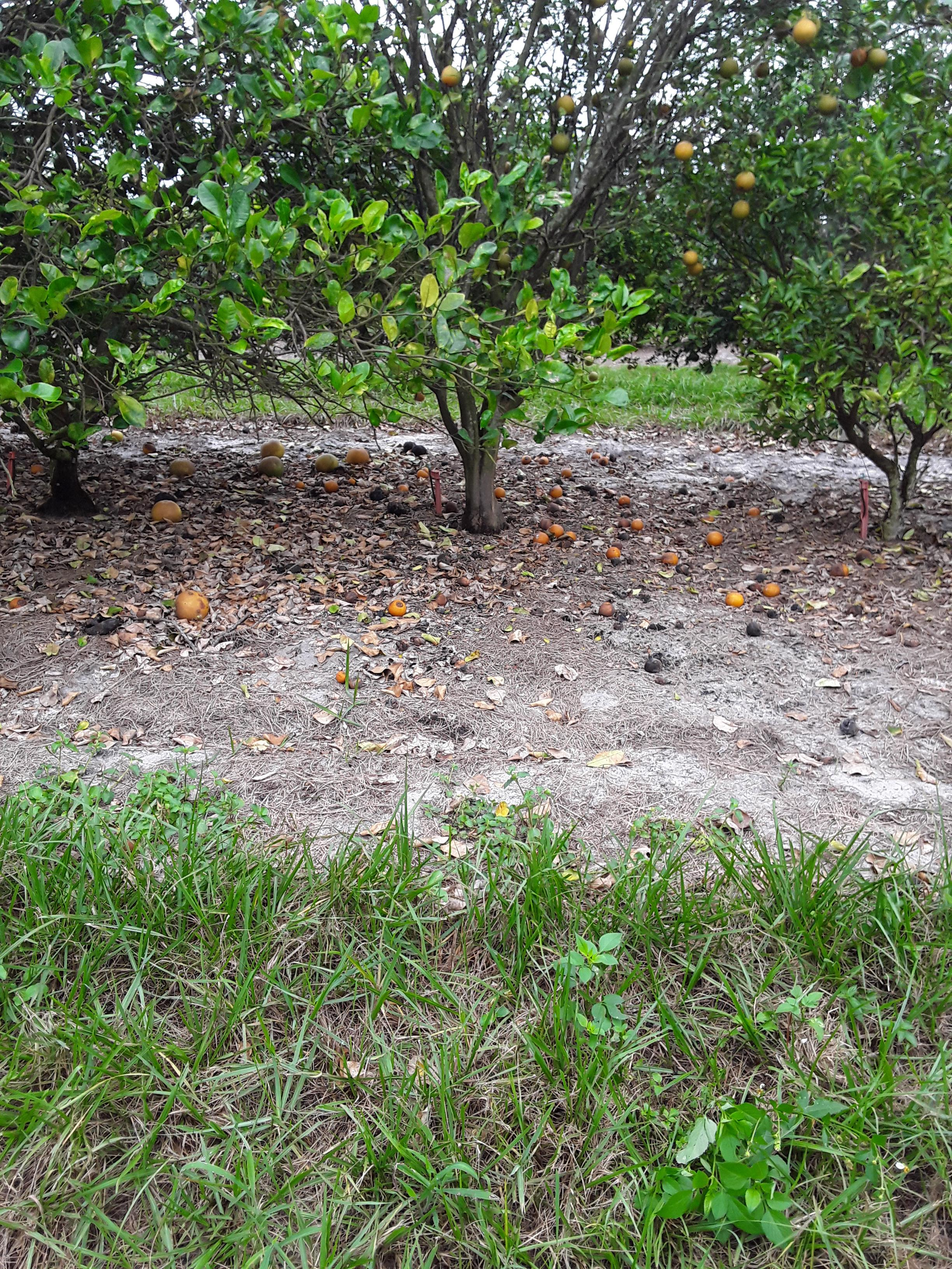fruit_on_ground: (250, 0, 295, 40), (167, 80, 207, 117), (791, 14, 822, 46), (437, 61, 465, 88), (814, 89, 841, 116), (552, 92, 579, 117), (866, 44, 891, 70), (717, 54, 742, 79), (550, 129, 574, 155), (672, 137, 696, 163), (847, 45, 870, 70), (733, 170, 758, 192), (729, 198, 752, 221), (770, 17, 794, 39), (493, 247, 515, 270), (750, 58, 773, 80), (582, 24, 606, 45), (585, 87, 607, 108), (651, 99, 674, 119), (616, 55, 637, 75), (681, 247, 701, 266), (686, 260, 706, 278), (586, 0, 611, 13), (411, 388, 427, 404), (586, 369, 600, 383), (583, 354, 595, 367)
fruit_on_tree: (174, 589, 210, 623), (150, 498, 184, 525), (257, 454, 286, 478), (312, 450, 338, 474), (168, 455, 196, 477), (259, 437, 286, 458), (344, 444, 371, 465), (387, 596, 409, 617), (724, 589, 746, 608), (643, 654, 663, 674), (761, 580, 781, 598), (829, 561, 850, 578), (705, 529, 724, 546), (106, 427, 126, 443), (744, 621, 762, 638), (598, 600, 616, 617), (442, 498, 459, 515), (854, 547, 872, 563), (411, 442, 429, 457), (662, 551, 680, 566), (492, 485, 508, 500), (605, 544, 621, 559), (548, 522, 564, 537), (763, 605, 780, 619), (334, 668, 348, 685), (400, 440, 417, 454), (324, 477, 339, 492), (29, 461, 45, 475), (140, 440, 156, 454), (534, 530, 550, 544), (542, 517, 557, 531), (618, 514, 633, 528), (414, 468, 430, 481), (746, 504, 761, 517), (548, 484, 563, 497), (617, 493, 632, 506), (629, 517, 644, 530), (772, 510, 788, 522), (705, 509, 719, 522), (559, 465, 573, 478), (346, 475, 360, 487), (564, 529, 578, 541), (598, 455, 611, 467), (537, 453, 550, 465), (397, 481, 410, 493), (676, 485, 690, 496), (725, 498, 737, 510), (591, 451, 604, 462), (583, 445, 595, 456), (520, 454, 532, 465), (710, 443, 723, 453), (294, 480, 306, 490), (724, 474, 736, 483), (420, 466, 430, 475)
